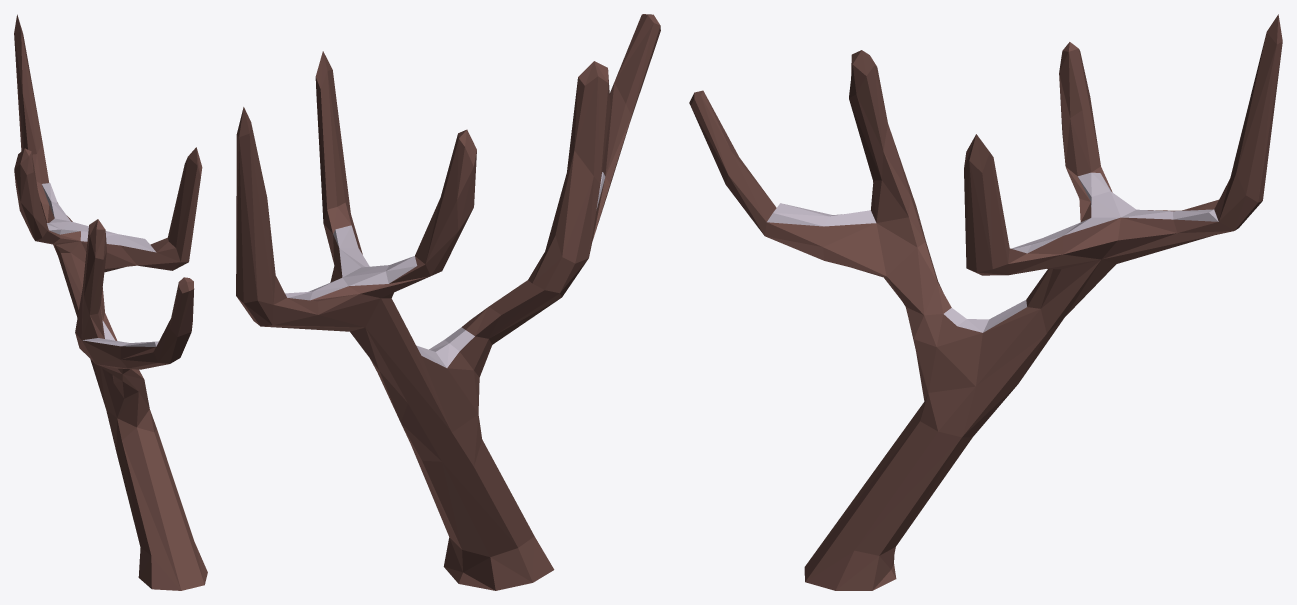
File: Willow_Dead_Snow_4.lod1.glb
3 renders of one model, left to right at view 1: azimuth 30°, elevation 25°; view 2: azimuth 150°, elevation 25°; view 3: azimuth 270°, elevation 25°, orthographic. The views are drawn at different scales.
Visible parts, largest first — view 1: Willow_Dead_Snow_4; view 2: Willow_Dead_Snow_4; view 3: Willow_Dead_Snow_4.
Part boxes in pixels (x1=…): Willow_Dead_Snow_4: x1=14, y1=14, x2=207, y2=590; Willow_Dead_Snow_4: x1=236, y1=14, x2=660, y2=590; Willow_Dead_Snow_4: x1=689, y1=14, x2=1282, y2=590.
Size of the model in its own units: 1.01 by 2.72 by 2.59.
